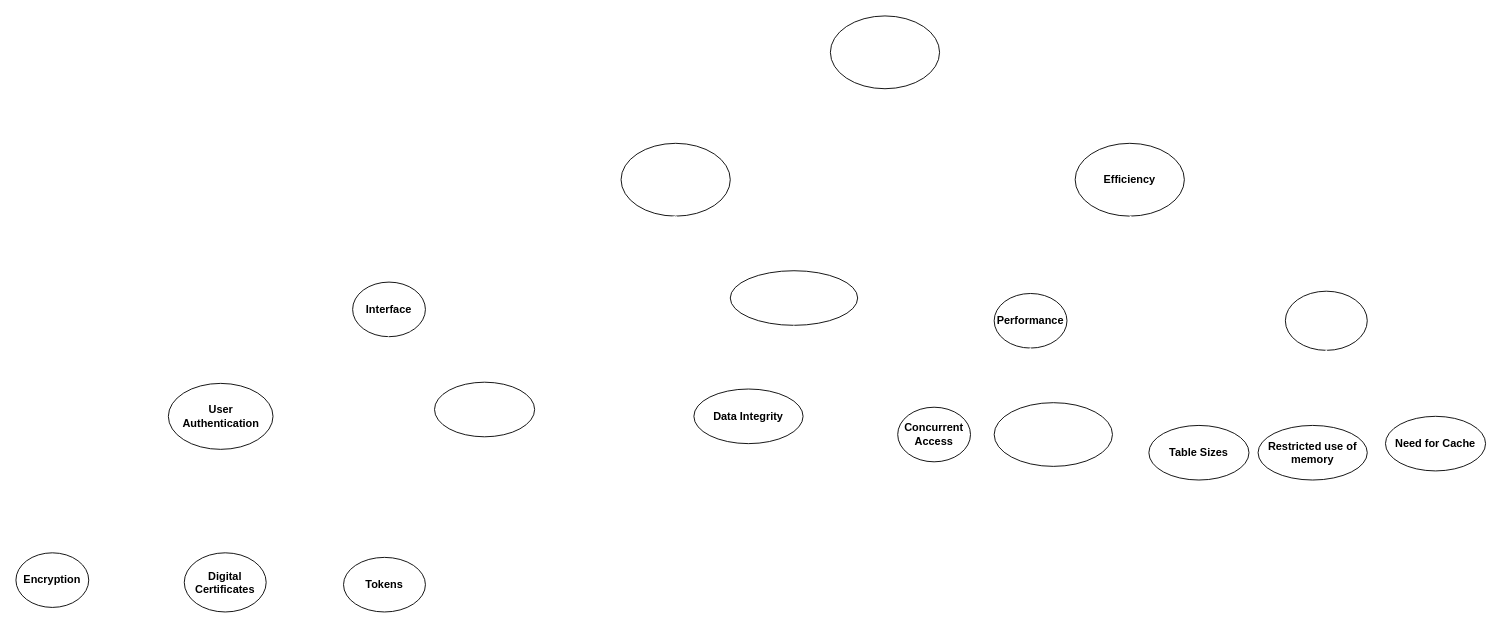
The diagram is 1502 pixels wide and 628 high, and some of its shapes have lost their labels. The centre of each missing label's shape, as x and y in pixels:
Architecture: [884,52]
Data Availability: [484,409]
Performance in carrying out operations: [1052,434]
Persistence (at the Database level): [793,297]
Security: [675,179]
Size: [1325,320]
